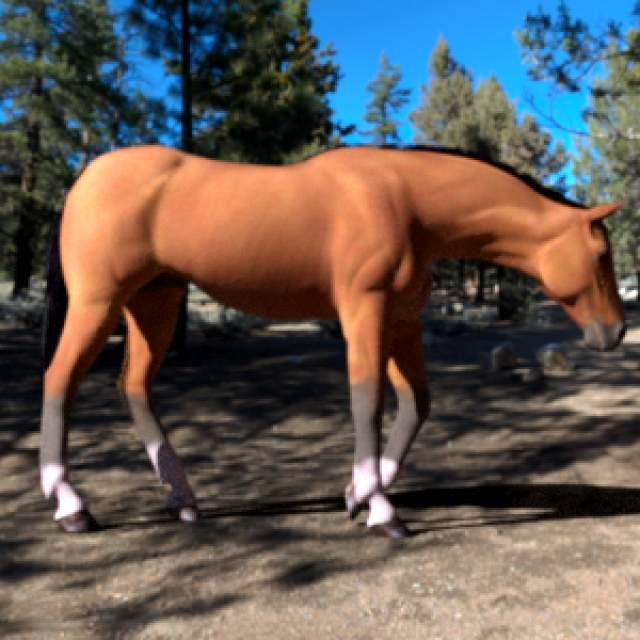horse: (41, 146, 625, 537)
